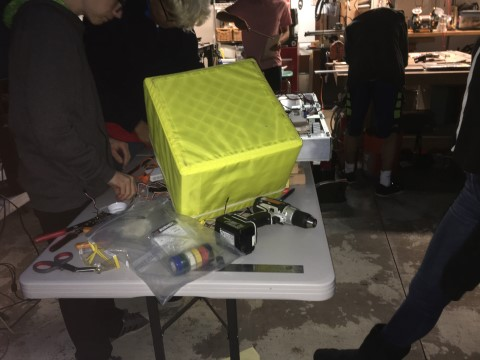cube: (141, 57, 302, 222)
